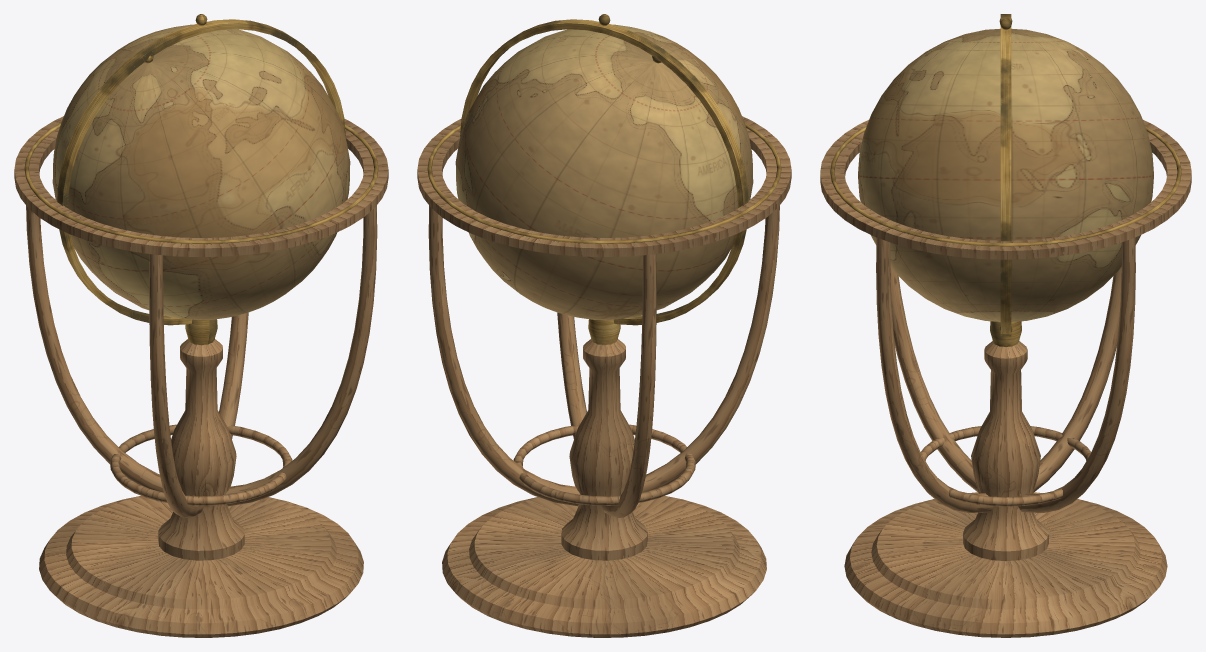
File: lib_globe.obj
3 views of the same model, side by side, from view 1: azimuth 30°, elevation 25°; view 2: azimuth 150°, elevation 25°; view 3: azimuth 270°, elevation 25° (orthographic).
Visible parts, largest first — view 1: lib_globe_wood_light, lib_globe_world_map, lib_globe_brass; view 2: lib_globe_wood_light, lib_globe_world_map, lib_globe_brass; view 3: lib_globe_wood_light, lib_globe_world_map, lib_globe_brass.
Part boxes in pixels (x1,y1,x2,y2): lib_globe_wood_light: (14,116,388,637); lib_globe_world_map: (52,24,350,319); lib_globe_brass: (24,14,378,345); lib_globe_wood_light: (417,116,791,637); lib_globe_world_map: (455,24,753,319); lib_globe_brass: (427,14,781,345); lib_globe_wood_light: (820,120,1191,637); lib_globe_world_map: (858,28,1153,321); lib_globe_brass: (830,14,1181,346).
Bounding box in the file's own units: 0.7 × 1.15 × 0.7.
Materials: 3 (3 with a texture image).
